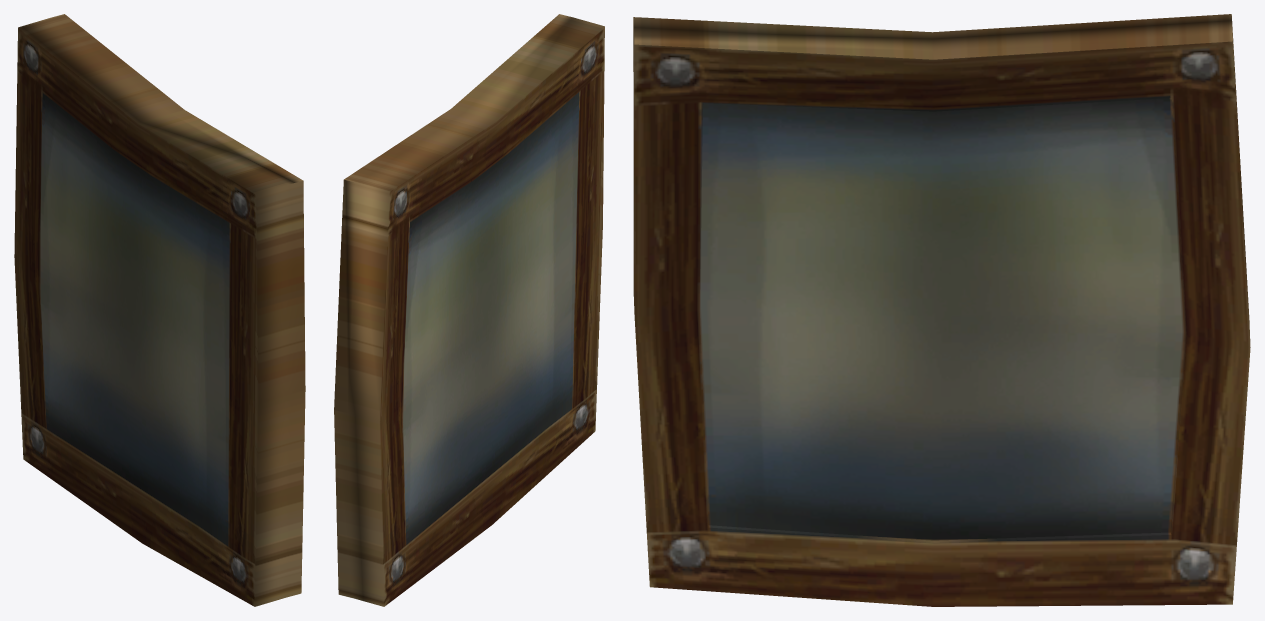
File: barbershop_mirror_01.obj
The picture shows the model from 3 angles, left to right: view 1: azimuth 30°, elevation 25°; view 2: azimuth 150°, elevation 25°; view 3: azimuth 270°, elevation 25°; orthographic projection. The views are drawn at different scales.
Visible parts, largest first — view 1: BARBERSHOP_MIRROR_010; view 2: BARBERSHOP_MIRROR_010; view 3: BARBERSHOP_MIRROR_010.
Boxes of the visible parts, x1,y1,x2,y2 form: BARBERSHOP_MIRROR_010: (14, 14, 305, 606); BARBERSHOP_MIRROR_010: (334, 14, 604, 606); BARBERSHOP_MIRROR_010: (633, 14, 1250, 606).
Bounding box in the file's own units: 0.3045 × 2.18 × 2.17.
1 material, 1 textured.
